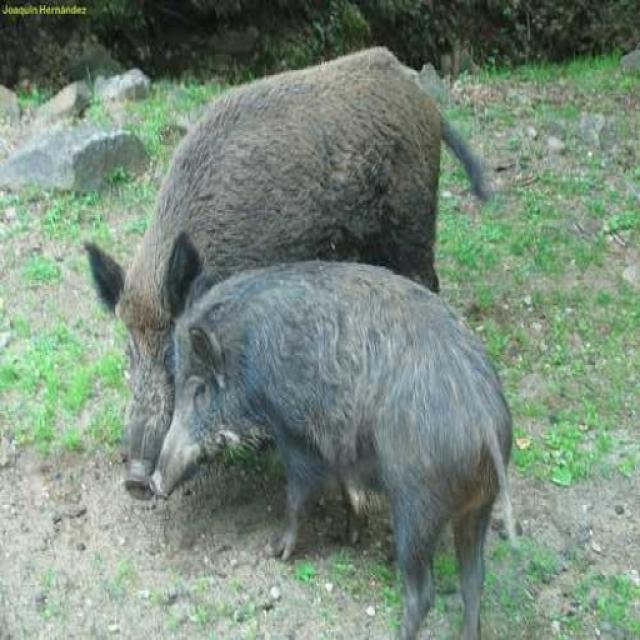pig: (147, 245, 554, 640), (91, 61, 439, 507)
